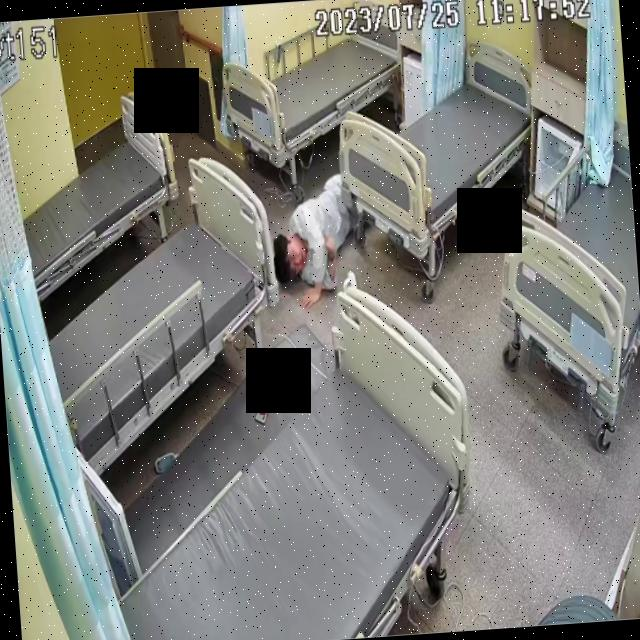bed: (97, 289, 474, 640), (32, 158, 284, 467), (491, 119, 640, 421), (331, 46, 538, 241), (12, 88, 184, 296), (223, 11, 406, 168)
fall: (261, 125, 363, 307)
patient: (260, 125, 363, 304)
